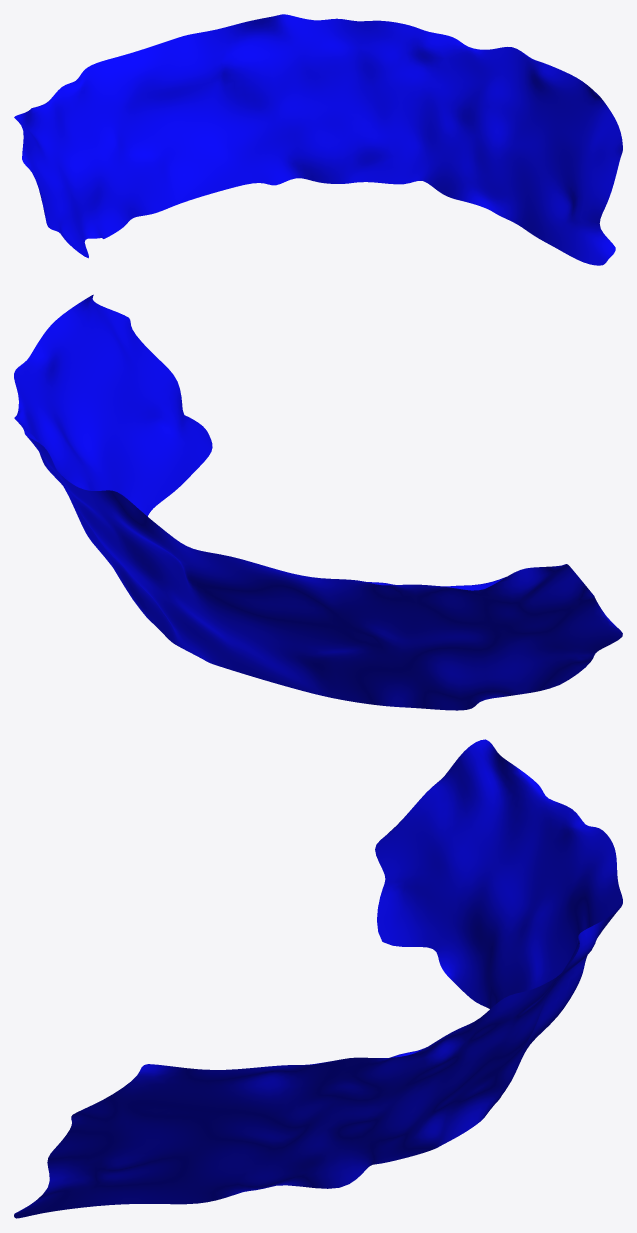
3 views of the same model, one above another, from view 1: azimuth 30°, elevation 25°; view 2: azimuth 150°, elevation 25°; view 3: azimuth 270°, elevation 25° (orthographic). The views are drawn at different scales.
Visible parts, largest first — view 1: Levier-De-Platine.012; view 2: Levier-De-Platine.012; view 3: Levier-De-Platine.012.
Part boxes in pixels (left/top/right/bottom): Levier-De-Platine.012: left=14, top=14, right=622, bottom=265; Levier-De-Platine.012: left=14, top=294, right=622, bottom=710; Levier-De-Platine.012: left=14, top=739, right=622, bottom=1218.
Size of the model in its own units: 2.16 by 0.6057 by 1.68.
